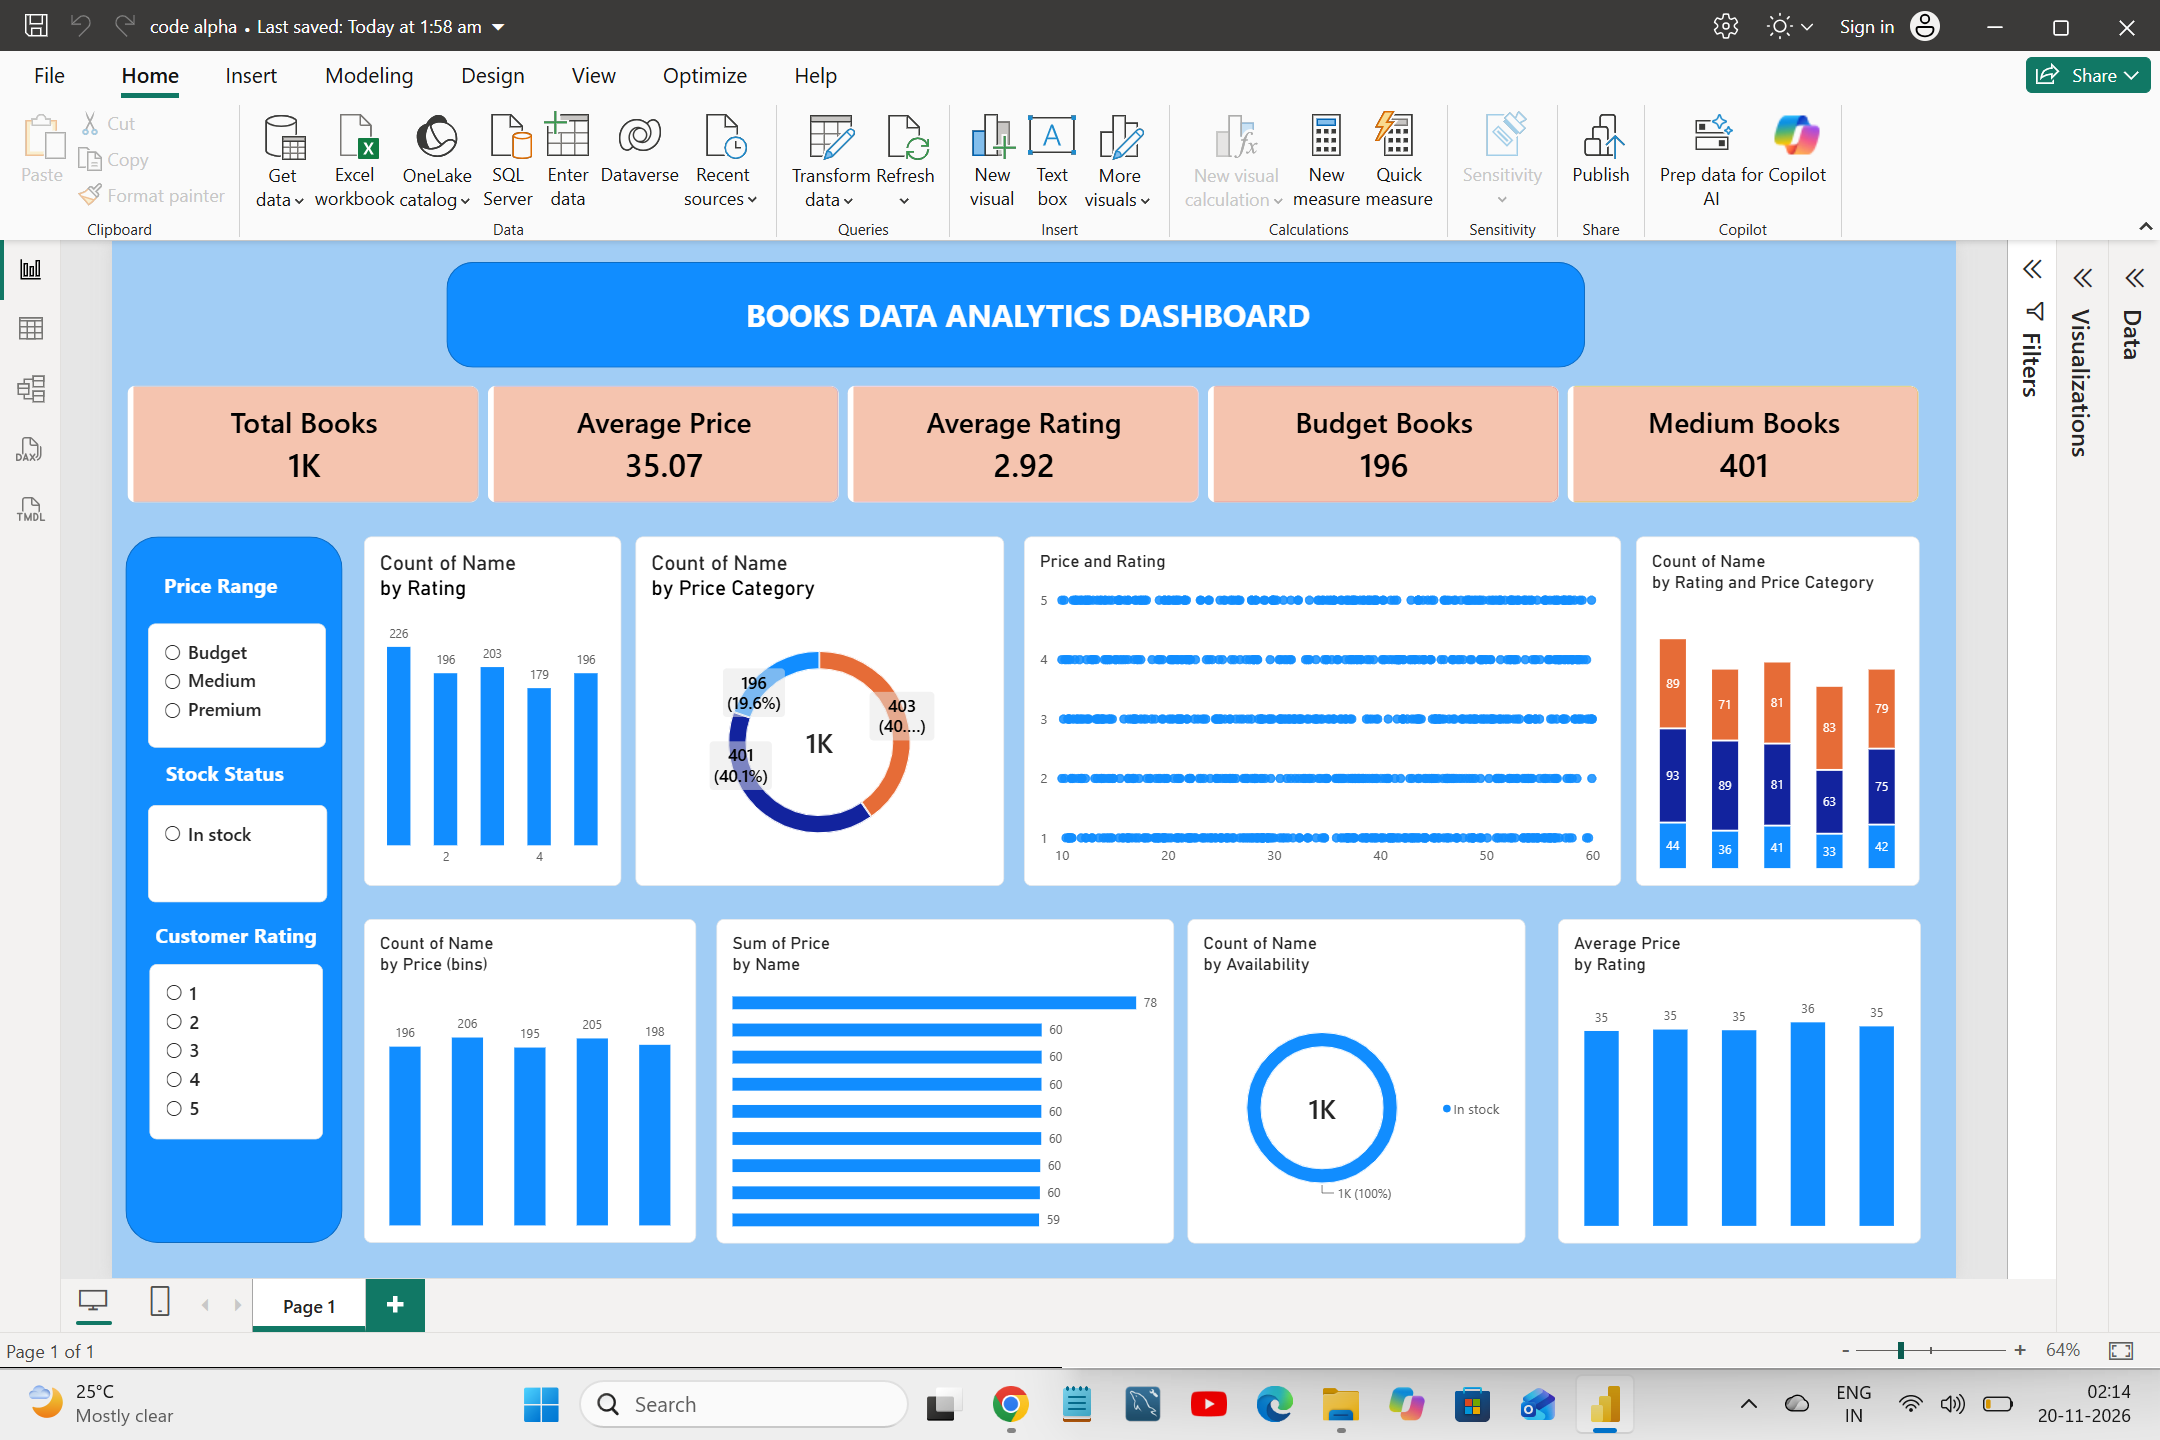

Layout of this report page (visuals, bound fields, positions):
{"tool":"powerbi","page":{"name":"Page 1","canvas":[1920,1080],"ordinal":0},"visuals":[{"type":"donutChart","fields":{"Category":["Books.Price Category"],"Y":["CountNonNull(Books.Name)"]},"box":[546,308,383.8,363.8],"z":0},{"type":"cardVisual","fields":{"Data":["Books.Total Books","Books.Average_price","Books.Average rating","Books.Budget Books","Books.Medium Books"]},"box":[16,150,1867.3,123.1],"z":1000},{"type":"clusteredColumnChart","fields":{"Category":["Books.Rating"],"Y":["CountNonNull(Books.Name)"]},"box":[262,308,268,364],"z":2000},{"type":"clusteredBarChart","fields":{"Category":["Books.Name"],"Y":["Sum(Books.Price)"]},"box":[629.4,705.9,476.5,338.2],"z":3000},{"type":"clusteredColumnChart","fields":{"Category":["Books.Price (bins)"],"Y":["CountNonNull(Books.Name)"]},"box":[262,706,346.2,337.5],"z":4000},{"type":"scatterChart","fields":{"X":["Books.Price"],"Y":["Books.Rating"]},"box":[950,308,622,364],"z":5000},{"type":"donutChart","fields":{"Category":["Books.Availability"],"Y":["CountNonNull(Books.Name)"]},"box":[1120,706,352,338],"z":6000},{"type":"clusteredColumnChart","fields":{"Category":["Books.Rating"],"Y":["Books.Average Price"]},"box":[1506,706,378,338],"z":7000},{"type":"columnChart","fields":{"Category":["Books.Rating"],"Series":["Books.Price Category"],"Y":["CountNonNull(Books.Name)"]},"box":[1588,308,295,363.8],"z":8000},{"type":"shape","box":[14.7,307.4,226,736],"z":9000},{"type":"listSlicer","fields":{"Values":["Books.Rating"]},"box":[39.7,752.9,180.9,182.4],"z":10000},{"type":"listSlicer","fields":{"Values":["Books.Price Category"]},"box":[38.2,398.5,185.3,129.4],"z":11000},{"type":"shape","box":[348,22,1186,110],"z":12000},{"type":"listSlicer","fields":{"Values":["Books.Availability"]},"box":[38.2,588.2,186.8,101.5],"z":13000},{"type":"textbox","box":[630,54,640,48],"z":14000},{"type":"textbox","box":[38.2,539.7,160.3,66.2],"z":14001},{"type":"textbox","box":[39.7,325,148.5,63.2],"z":14002},{"type":"textbox","box":[39.7,689.7,180.9,63.2],"z":14003}]}

Visuals, with their boxes on the page's 1920x1080 design canvas (x1, y1, x2, y2). These are canvas units, not pixel positions in the 2160x1440 screenshot, which may show the page scaled, cropped or inside an application window:
donutChart - Books.Price Category x CountNonNull(Books.Name): bbox(546, 308, 930, 672)
cardVisual - Books.Total Books x Books.Average_price: bbox(16, 150, 1883, 273)
clusteredColumnChart - Books.Rating x CountNonNull(Books.Name): bbox(262, 308, 530, 672)
clusteredBarChart - Books.Name x Sum(Books.Price): bbox(629, 706, 1106, 1044)
clusteredColumnChart - Books.Price (bins) x CountNonNull(Books.Name): bbox(262, 706, 608, 1044)
scatterChart - Books.Price x Books.Rating: bbox(950, 308, 1572, 672)
donutChart - Books.Availability x CountNonNull(Books.Name): bbox(1120, 706, 1472, 1044)
clusteredColumnChart - Books.Rating x Books.Average Price: bbox(1506, 706, 1884, 1044)
columnChart - Books.Rating x Books.Price Category: bbox(1588, 308, 1883, 672)
shape: bbox(15, 307, 241, 1043)
listSlicer - Books.Rating: bbox(40, 753, 221, 935)
listSlicer - Books.Price Category: bbox(38, 398, 224, 528)
shape: bbox(348, 22, 1534, 132)
listSlicer - Books.Availability: bbox(38, 588, 225, 690)
textbox: bbox(630, 54, 1270, 102)
textbox: bbox(38, 540, 198, 606)
textbox: bbox(40, 325, 188, 388)
textbox: bbox(40, 690, 221, 753)
